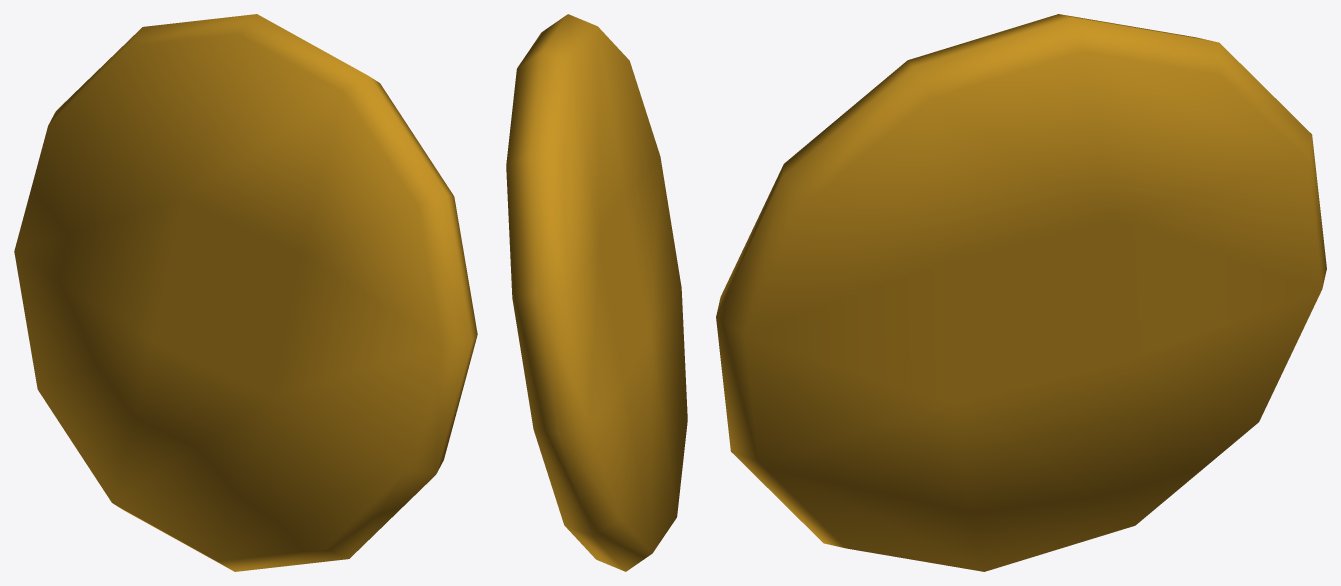
The model's file is door_left.fbx.
3 views of the same model, side by side, from view 1: azimuth 30°, elevation 25°; view 2: azimuth 150°, elevation 25°; view 3: azimuth 270°, elevation 25° (orthographic). The views are drawn at different scales.
Visible parts, largest first — view 1: door_2; view 2: door_2; view 3: door_2.
Part boxes in pixels (bbox=[...]): door_2: bbox=[14, 14, 477, 571]; door_2: bbox=[506, 14, 687, 571]; door_2: bbox=[716, 14, 1326, 571].
Size of the model in its own units: 73.22 by 153 by 144.
